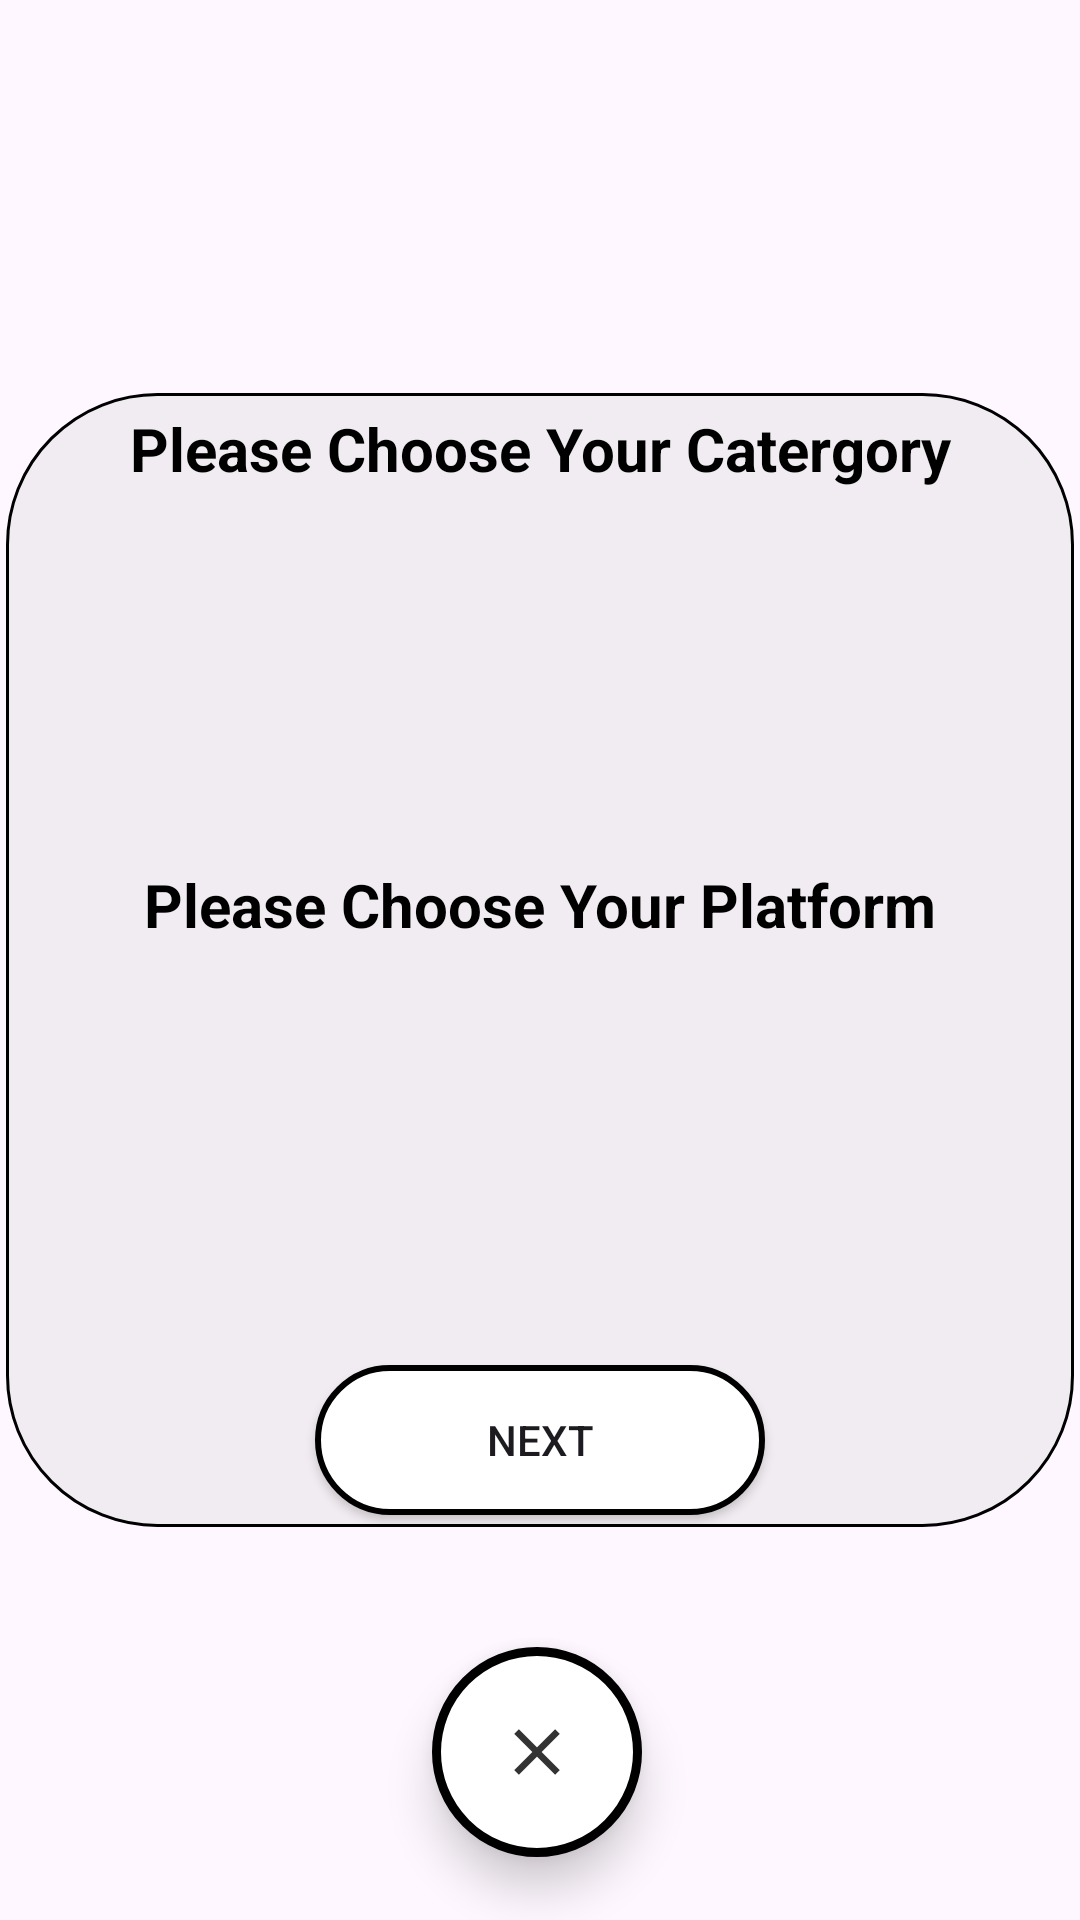

Icon click points for this 1080×1920 phone screenshot, format (x=x, y=y):
close: (x=537, y=1752)
